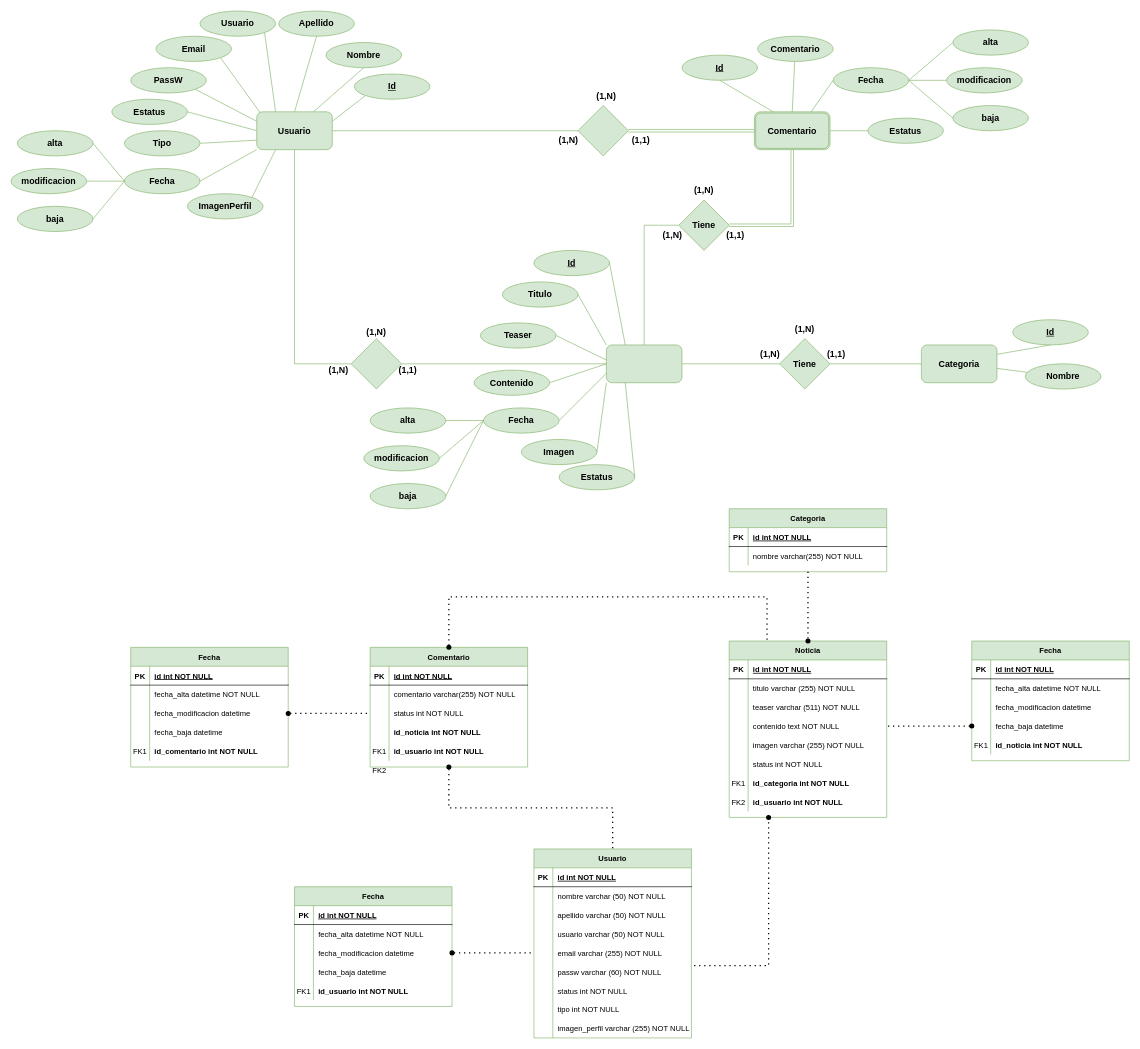
Image size: 1140x1049. Some labels were removed from this diagram. Each missing label, with the centre of its shape:
Noticias: the point at 644,363
pública: the point at 376,363
Realiza: the point at 602,130
